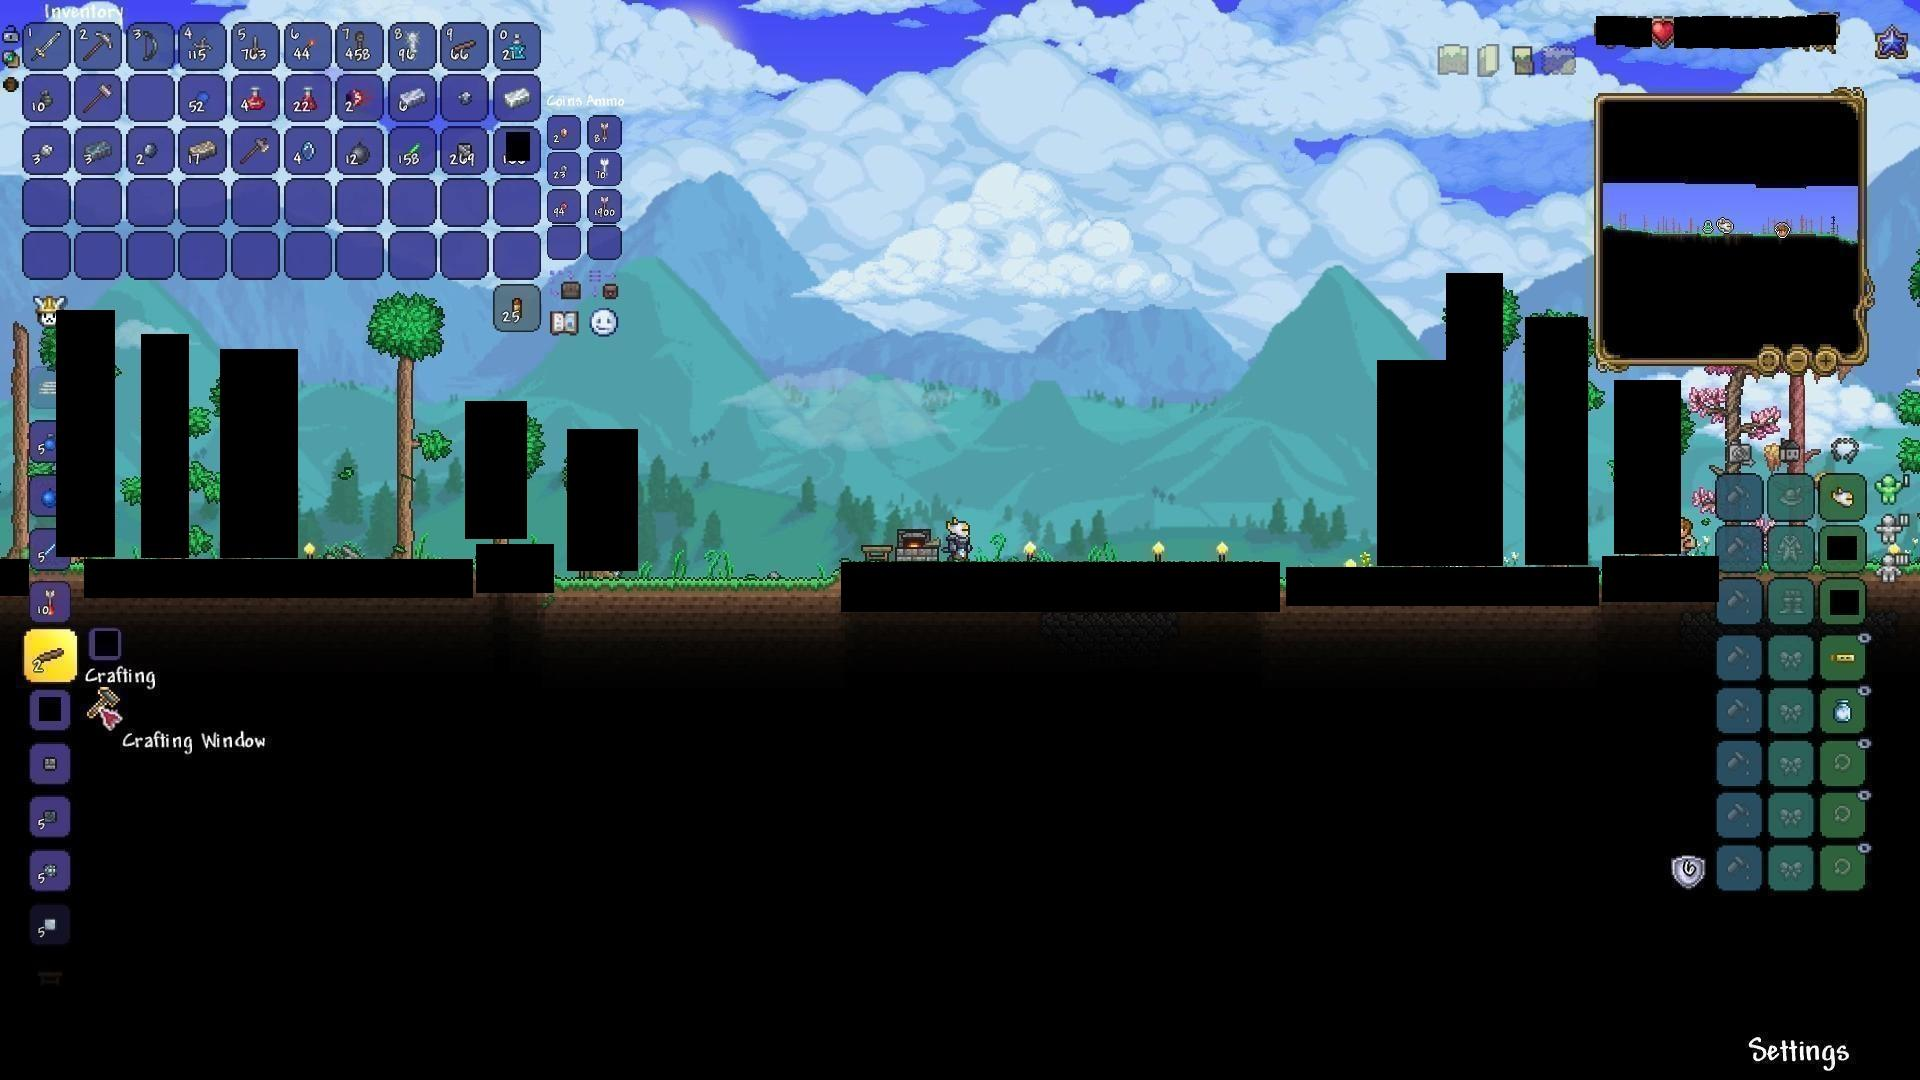dirt: (555, 574, 831, 624)
heart: (1648, 18, 1676, 47)
tree: (367, 287, 439, 555), (0, 309, 33, 559), (1692, 365, 1767, 472)
workbench: (858, 541, 894, 560)
